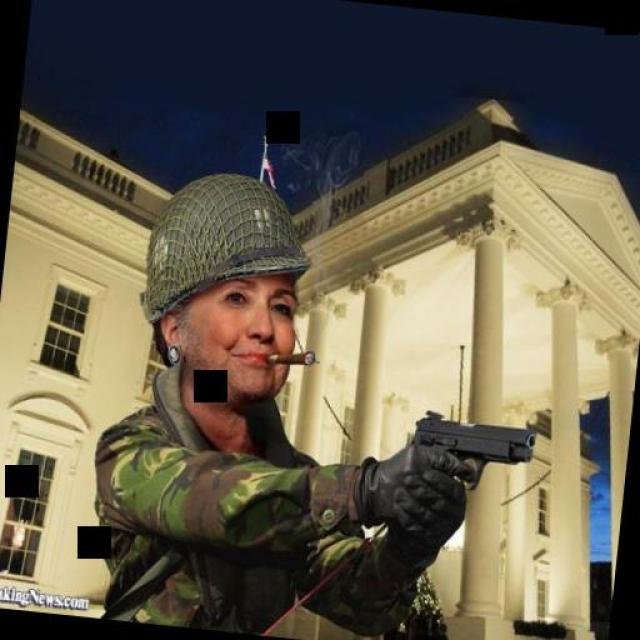gun: (398, 411, 538, 540)
